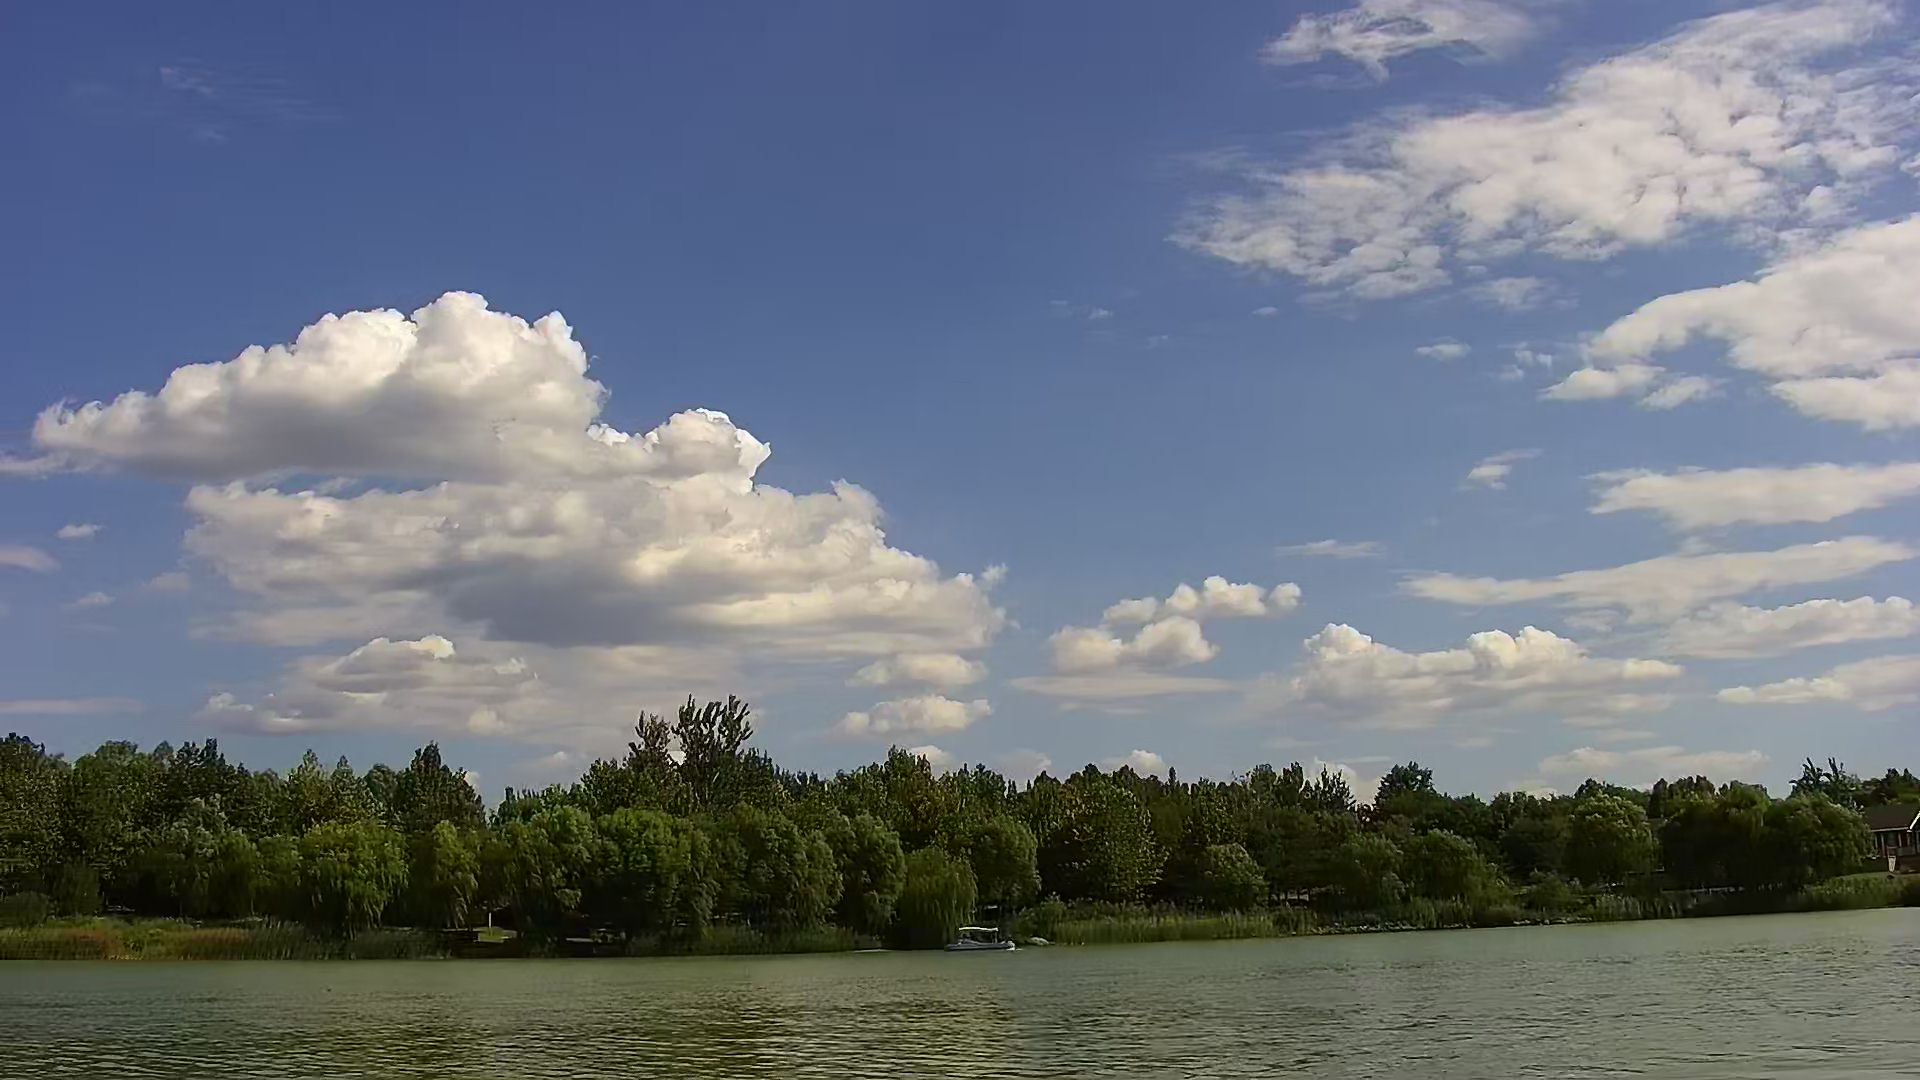boat: (938, 920, 1011, 955)
